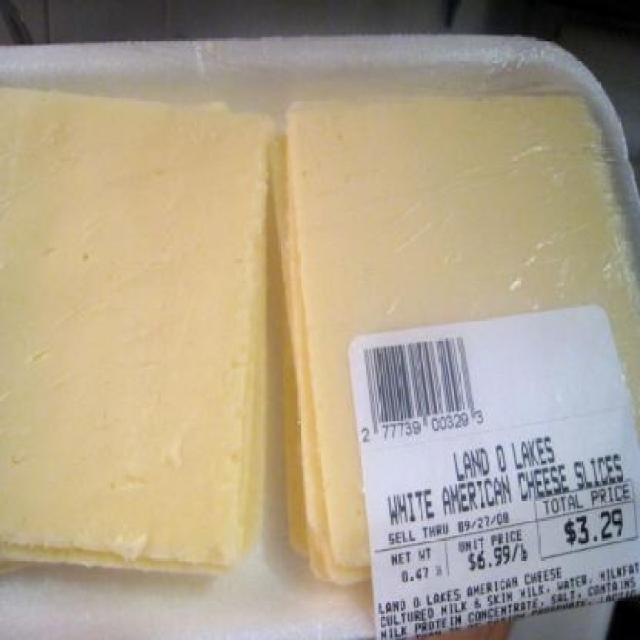Cheese: (273, 97, 639, 586), (0, 80, 278, 574)
